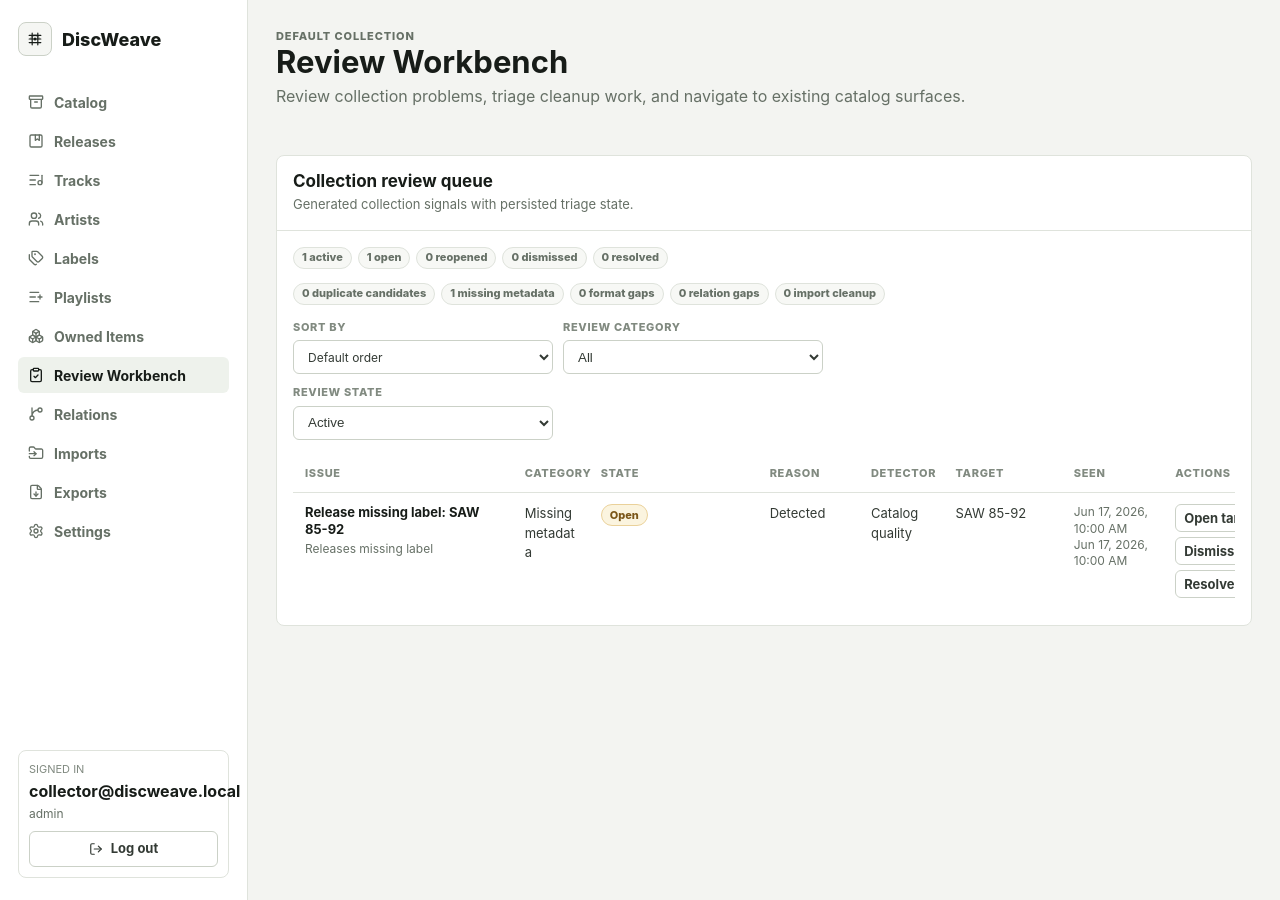
Test: Review Workbench workspace › updates triage state and hides items that leave the active queue
This screenshot has width=1280, height=900.
Click the button with aria-label "Dismiss Release missing label: SAW 85-92": click(1209, 552) 1175,538 -> 1243,566
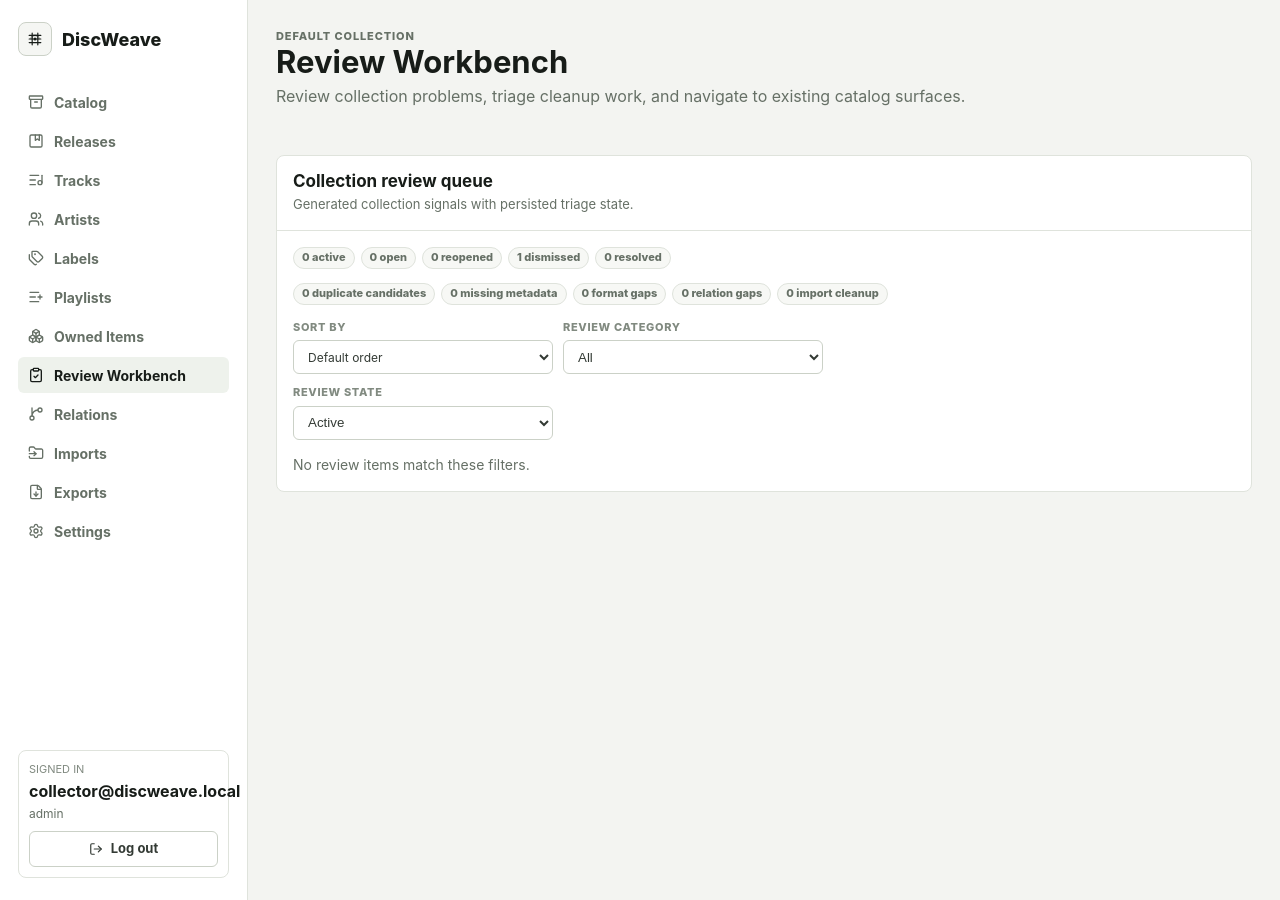
expect the text "Release missing label: SAW 85-92" is gone: met
